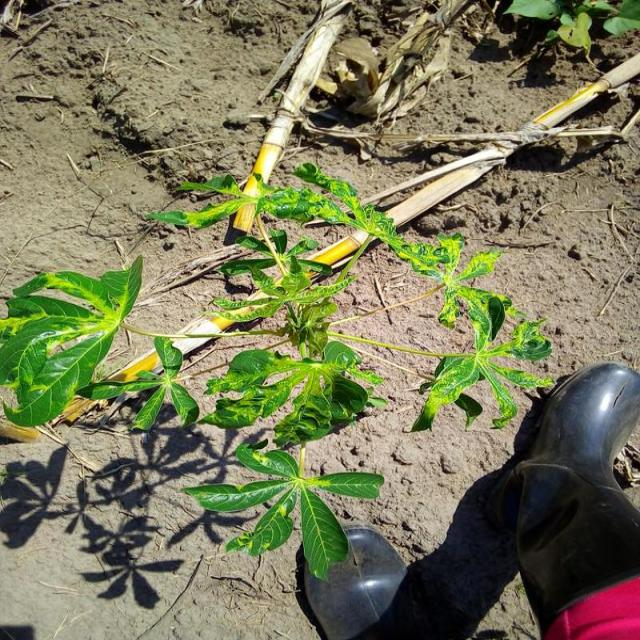cassava leaf: (180, 438, 386, 582), (1, 253, 144, 428)
